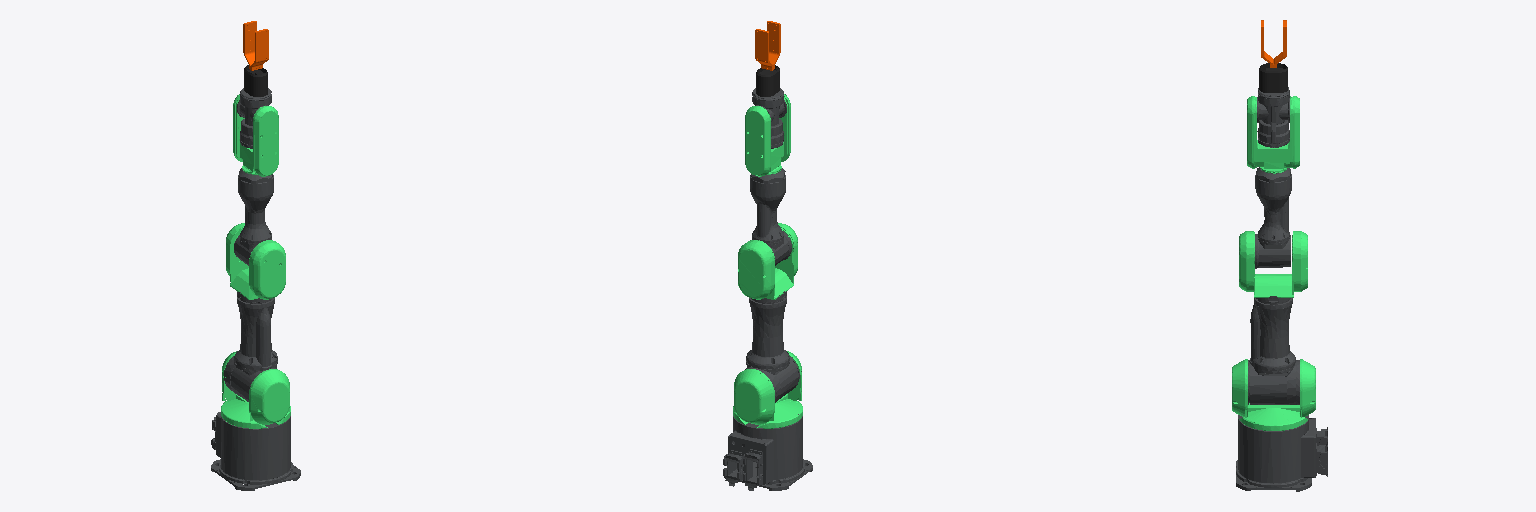
URDF robot description (pa10):
<?xml version="1.0" ?>
<!-- =================================================================================== -->
<!-- |    This document was autogenerated by xacro from pa10_csl.urdf.xacro            | -->
<!-- |    EDITING THIS FILE BY HAND IS NOT RECOMMENDED                                 | -->
<!-- =================================================================================== -->
<robot name="pa10" xmlns:xacro="http://www.ros.org/wiki/xacro">
  <!-- ros_control plugin -->
  <gazebo>
    <plugin filename="libgazebo_ros_control.so" name="gazebo_ros_control">
      <robotNamespace/>
      <robotSimType>gazebo_ros_control/DefaultRobotHWSim</robotSimType>
    </plugin>
  </gazebo>
  <!-- base_link -->
  <gazebo reference="base_link">
    <mu1>0.5</mu1>
    <mu2>0.5</mu2>
    <material>Gazebo/Grey</material>
  </gazebo>
  <!-- Link1 -->
  <gazebo reference="link_shoulder_1">
    <material>Gazebo/Blue</material>
  </gazebo>
  <!-- Link2 -->
  <gazebo reference="link_shoulder_2">
    <mu1>0.5</mu1>
    <mu2>0.5</mu2>
    <material>Gazebo/Grey</material>
  </gazebo>
  <!-- Link3 -->
  <gazebo reference="link_elbow_1">
    <mu1>0.5</mu1>
    <mu2>0.5</mu2>
    <material>Gazebo/Blue</material>
  </gazebo>
  <!-- Link4 -->
  <gazebo reference="link_elbow_2">
    <mu1>0.5</mu1>
    <mu2>0.5</mu2>
    <material>Gazebo/Grey</material>
  </gazebo>
  <!-- Link5 -->
  <gazebo reference="link_wrist_1">
    <mu1>0.5</mu1>
    <mu2>0.5</mu2>
    <material>Gazebo/Blue</material>
  </gazebo>
  <!-- Link6 -->
  <gazebo reference="link_wrist_2">
    <mu1>0.5</mu1>
    <mu2>0.5</mu2>
    <material>Gazebo/Grey</material>
  </gazebo>
  <gazebo reference="link_wrist_2">
    <mu1>0.5</mu1>
    <mu2>0.5</mu2>
    <material>Gazebo/Grey</material>
  </gazebo>
  <gazebo reference="link_gripper_base">
    <mu1>0.5</mu1>
    <mu2>0.5</mu2>
    <material>Gazebo/Grey</material>
  </gazebo>
  <gazebo reference="link_finger_1">
    <mu1>0.5</mu1>
    <mu2>0.5</mu2>
    <material>Gazebo/Orange</material>
  </gazebo>
  <gazebo reference="link_finger_2">
    <mu1>0.5</mu1>
    <mu2>0.5</mu2>
    <material>Gazebo/Orange</material>
  </gazebo>
  <material name="black">
    <color rgba="0.0 0.0 0.0 1.0"/>
  </material>
  <material name="blue">
    <color rgba="0.0 0.0 0.8 1.0"/>
  </material>
  <material name="green">
    <color rgba="0.0 0.8 0.0 1.0"/>
  </material>
  <material name="grey">
    <color rgba="0.2 0.2 0.2 1.0"/>
  </material>
  <material name="orange">
    <color rgba="1.0 0.423529411765 0.0392156862745 1.0"/>
  </material>
  <material name="brown">
    <color rgba="0.870588235294 0.811764705882 0.764705882353 1.0"/>
  </material>
  <material name="red">
    <color rgba="0.8 0.0 0.0 1.0"/>
  </material>
  <material name="white">
    <color rgba="1.0 1.0 1.0 1.0"/>
  </material>
  <!-- LINKS -->
  <link name="world"/>
  <link name="kinect2_rgb_optical_frame">
    <visual>
      <origin rpy="0 0 0" xyz="0 0 0"/>
      <geometry>
        <mesh filename="package://pa10_description/sensors_3D_models/kinect.dae" scale="1 1 1"/>
      </geometry>
      <material name="">
        <color rgba="0.0 0.0 0.0 1.0"/>
      </material>
    </visual>
    <collision>
      <origin rpy="0 0 0" xyz="0 0 0"/>
      <geometry>
        <mesh filename="package://pa10_description/sensors_3D_models/kinect.dae" scale="1 1 1"/>
      </geometry>
    </collision>
    <inertial>
      <origin rpy="0 0 0" xyz="0 0 0"/>
      <mass value="1"/>
      <inertia ixx="1" ixy="0.0" ixz="0.0" iyy="1" iyz="0.0" izz="1"/>
    </inertial>
  </link>
  <link name="base_link">
    <visual>
      <origin rpy="0 0 3.14" xyz="0 0 0"/>
      <geometry>
        <mesh filename="package://pa10_description/pa10_stl/S1.stl" scale="1 1 1"/>
      </geometry>
      <material name="">
        <color rgba="0.34 0.35 0.36 1.0"/>
      </material>
    </visual>
    <collision>
      <origin rpy="0 0 3.14" xyz="0 0 0"/>
      <geometry>
        <mesh filename="package://pa10_description/pa10_stl_collision/S1_collision.stl" scale="1 1 1"/>
      </geometry>
    </collision>
    <inertial>
      <origin rpy="0 0 3.14" xyz="0 0 0"/>
      <mass value="1"/>
      <inertia ixx="1" ixy="0.0" ixz="0.0" iyy="1" iyz="0.0" izz="1"/>
    </inertial>
  </link>
  <link name="link_shoulder_1">
    <visual>
      <origin rpy="0 0 0" xyz="0 0 0.117"/>
      <geometry>
        <mesh filename="package://pa10_description/pa10_stl/S2.stl" scale="1 1 1"/>
      </geometry>
      <material name="">
        <color rgba="0.33 0.96 0.53 1.5"/>
      </material>
    </visual>
    <collision>
      <origin rpy="0 0 0" xyz="0 0 0.117"/>
      <geometry>
        <mesh filename="package://pa10_description/pa10_stl_collision/S2_collision.stl" scale="1 1 1"/>
      </geometry>
    </collision>
    <inertial>
      <origin rpy="0 0 0" xyz="0 0 0.117"/>
      <mass value="1"/>
      <inertia ixx="1" ixy="0.0" ixz="0.0" iyy="1" iyz="0.0" izz="1"/>
    </inertial>
  </link>
  <link name="link_shoulder_2">
    <visual>
      <origin rpy="-1.57079 0 3.14159" xyz="0 0 0"/>
      <geometry>
        <mesh filename="package://pa10_description/pa10_stl/S3.stl" scale="1 1 1"/>
      </geometry>
      <material name="">
        <color rgba="0.34 0.35 0.36 1.0"/>
      </material>
    </visual>
    <collision>
      <origin rpy="-1.57079 0 3.14159" xyz="0 0 0"/>
      <geometry>
        <mesh filename="package://pa10_description/pa10_stl_collision/S3_collision.stl" scale="1 1 1"/>
      </geometry>
    </collision>
    <inertial>
      <origin rpy="-1.57079 0 3.14159" xyz="0 0 0"/>
      <mass value="1"/>
      <inertia ixx="1" ixy="0.0" ixz="0.0" iyy="1" iyz="0.0" izz="1"/>
    </inertial>
  </link>
  <link name="link_shoulder_to_elbow">
    <inertial>
      <origin rpy="0 0 0" xyz="0 0 1"/>
      <mass value="1"/>
      <inertia ixx="1" ixy="0.0" ixz="0.0" iyy="1" iyz="0.0" izz="1"/>
    </inertial>
  </link>
  <link name="link_elbow_1">
    <visual>
      <origin rpy="0 0 0" xyz="0 0.0 0.133"/>
      <geometry>
        <mesh filename="package://pa10_description/pa10_stl/E1.stl" scale="1 1 1"/>
      </geometry>
      <material name="">
        <color rgba="0.33 0.96 0.53 1.5"/>
      </material>
    </visual>
    <collision>
      <origin rpy="0 0 0" xyz="0 0.0 0.133"/>
      <geometry>
        <mesh filename="package://pa10_description/pa10_stl_collision/E1_collision.stl" scale="1 1 1"/>
      </geometry>
    </collision>
    <inertial>
      <origin rpy="0 0 0" xyz="0 0.0 0.133"/>
      <mass value="1"/>
      <inertia ixx="1" ixy="0.0" ixz="0.0" iyy="1" iyz="0.0" izz="1"/>
    </inertial>
  </link>
  <link name="link_elbow_2">
    <visual>
      <origin rpy="1.57079 0 0" xyz="0 0.003 0"/>
      <geometry>
        <mesh filename="package://pa10_description/pa10_stl/E2.stl" scale="1 1 1"/>
      </geometry>
      <material name="">
        <color rgba="0.34 0.35 0.36 1.0"/>
      </material>
    </visual>
    <collision>
      <origin rpy="-1.57079 0 0" xyz="0 0.003 0"/>
      <geometry>
        <mesh filename="package://pa10_description/pa10_stl_collision/E2_collision.stl" scale="1 1 1"/>
      </geometry>
    </collision>
    <inertial>
      <origin rpy="1.57079 0 0" xyz="0 0.003 0"/>
      <mass value="1"/>
      <inertia ixx="1" ixy="0.0" ixz="0.0" iyy="1" iyz="0.0" izz="1"/>
    </inertial>
  </link>
  <link name="link_wrist_1">
    <visual>
      <origin rpy="0 0 0" xyz="0 0 0.195"/>
      <geometry>
        <mesh filename="package://pa10_description/pa10_stl/W1.stl" scale="1 1 1"/>
      </geometry>
      <material name="">
        <color rgba="0.33 0.96 0.53 1.5"/>
      </material>
    </visual>
    <collision>
      <origin rpy="0 0 0" xyz="0 0 0.195"/>
      <geometry>
        <mesh filename="package://pa10_description/pa10_stl_collision/W1_collision.stl" scale="1 1 1"/>
      </geometry>
    </collision>
    <inertial>
      <origin rpy="0 0 0" xyz="0 0 0.195"/>
      <mass value="1"/>
      <inertia ixx="1" ixy="0.0" ixz="0.0" iyy="1" iyz="0.0" izz="1"/>
    </inertial>
  </link>
  <link name="link_wrist_2">
    <visual>
      <origin rpy="1.57079 0 0" xyz="0 0 0"/>
      <geometry>
        <mesh filename="package://pa10_description/pa10_stl/W2.stl" scale="1 1 1"/>
      </geometry>
      <material name="">
        <color rgba="0.34 0.35 0.36 1.0"/>
      </material>
    </visual>
    <collision>
      <origin rpy="1.57079 0 0" xyz="0 0 0"/>
      <geometry>
        <mesh filename="package://pa10_description/pa10_stl_collision/W2_collision.stl" scale="1 1 1"/>
      </geometry>
    </collision>
    <inertial>
      <origin rpy="1.57079 0 0" xyz="0 0 0"/>
      <mass value="1"/>
      <inertia ixx="1" ixy="0.0" ixz="0.0" iyy="1" iyz="0.0" izz="1"/>
    </inertial>
  </link>
  <link name="link_wrist_3"/>
  <link name="link_ee_tool">
    <inertial>
      <origin rpy="0 0 0" xyz="0 0 0"/>
      <mass value="0.05"/>
      <inertia ixx="1" ixy="0.0" ixz="0.0" iyy="1" iyz="0.0" izz="1"/>
    </inertial>
  </link>
  <!-- GRIPPER LINKS -->
  <link name="link_gripper_base">
    <visual>
      <origin rpy="0 0 0" xyz="0 0 -0.045"/>
      <geometry>
        <mesh filename="package://pa10_description/gripper_stl/pa10_gripper_base.stl" scale="1 1 1"/>
      </geometry>
      <material name="">
        <color rgba="0.2 0.2 0.2 1.0"/>
      </material>
    </visual>
    <collision>
      <origin rpy="0 0 0" xyz="0 0 -0.045"/>
      <geometry>
        <mesh filename="package://pa10_description/gripper_stl/pa10_gripper_base.stl" scale="1 1 1"/>
      </geometry>
    </collision>
    <inertial>
      <origin rpy="0 0 0" xyz="0 0 -0.045"/>
      <mass value="0.5"/>
      <inertia ixx="1" ixy="0.0" ixz="0.0" iyy="1" iyz="0.0" izz="1"/>
    </inertial>
  </link>
  <link name="link_finger_1">
    <visual>
      <origin rpy="-3.14159 -1.57079 0" xyz="-0.0225 0.075 -0.01"/>
      <geometry>
        <mesh filename="package://pa10_description/gripper_stl/finger.STL" scale="0.001 0.001 0.001"/>
      </geometry>
      <material name="">
        <color rgba="1.0 0.423529411765 0.0392156862745 1.0"/>
      </material>
    </visual>
    <collision>
      <origin rpy="-3.14159 -1.57079 0" xyz="-0.0225 0.075 -0.01"/>
      <geometry>
        <mesh filename="package://pa10_description/gripper_stl/finger.STL" scale="0.001 0.001 0.001"/>
      </geometry>
    </collision>
    <inertial>
      <origin rpy="0 0 0" xyz="0 0 0"/>
      <mass value="0.1"/>
      <inertia ixx="1" ixy="0.0" ixz="0.0" iyy="1" iyz="0.0" izz="1"/>
    </inertial>
  </link>
  <link name="link_finger_2">
    <visual>
      <origin rpy="0 1.57079 0" xyz="-0.0225 -0.075 0.07"/>
      <geometry>
        <mesh filename="package://pa10_description/gripper_stl/finger_left.STL" scale="0.001 0.001 0.001"/>
      </geometry>
      <material name="">
        <color rgba="1.0 0.423529411765 0.0392156862745 1.0"/>
      </material>
    </visual>
    <collision>
      <origin rpy="0 1.57079 0" xyz="-0.0225 -0.075 0.07"/>
      <geometry>
        <mesh filename="package://pa10_description/gripper_stl/finger_left.STL" scale="0.001 0.001 0.001"/>
      </geometry>
    </collision>
    <inertial>
      <origin rpy="0 0 0" xyz="0 0 0"/>
      <mass value="0.1"/>
      <inertia ixx="1" ixy="0.0" ixz="0.0" iyy="1" iyz="0.0" izz="1"/>
    </inertial>
  </link>
  <!-- *********** -->
  <!--   JOINTS    -->
  <!--************ -->
  <joint name="fixed" type="fixed">
    <parent link="world"/>
    <child link="base_link"/>
  </joint>
  <joint name="kinect" type="fixed">
    <origin rpy="-0.52 0 0" xyz="0 -0.90 0"/>
    <parent link="world"/>
    <child link="kinect2_rgb_optical_frame"/>
  </joint>
  <joint name="S1" type="revolute">
    <origin rpy="0 0 0" xyz="0 0 0.2"/>
    <parent link="base_link"/>
    <child link="link_shoulder_1"/>
    <axis xyz="0 0 1"/>
    <limit effort="39.0" lower="-2.96705972839" upper="2.96705972839" velocity="0.85"/>
    <safety_controller k_position="20" k_velocity="20" soft_lower_limit="-2.94705972839" soft_upper_limit="2.94705972839"/>
  </joint>
  <joint name="S2" type="revolute">
    <origin rpy="-1.57079 0 0" xyz="0 0 0.117"/>
    <parent link="link_shoulder_1"/>
    <child link="link_shoulder_2"/>
    <axis xyz="0 0 1"/>
    <limit effort="39.0" lower="-1.57079632679" upper="1.57079632679" velocity="0.85"/>
    <safety_controller k_position="20" k_velocity="20" soft_lower_limit="-1.55079632679" soft_upper_limit="1.55079632679"/>
  </joint>
  <joint name="soldier_to_elbow_joint" type="fixed">
    <origin rpy="1.57079 0 0" xyz="0 0 0"/>
    <parent link="link_shoulder_2"/>
    <child link="link_shoulder_to_elbow"/>
  </joint>
  <joint name="E1" type="revolute">
    <origin rpy="0 0 0" xyz="0 0 0.317"/>
    <parent link="link_shoulder_to_elbow"/>
    <child link="link_elbow_1"/>
    <axis xyz="0 0 1"/>
    <limit effort="39.0" lower="-2.96705972839" upper="2.96705972839" velocity="1.85"/>
    <safety_controller k_position="20" k_velocity="20" soft_lower_limit="-2.94705972839" soft_upper_limit="2.94705972839"/>
  </joint>
  <joint name="E2" type="revolute">
    <origin rpy="-1.57079  0 0" xyz="0 0 0.133"/>
    <parent link="link_elbow_1"/>
    <child link="link_elbow_2"/>
    <axis xyz="0 0 1"/>
    <limit effort="39.0" lower="-2.26892802759" upper="2.26892802759" velocity="1.85"/>
    <safety_controller k_position="20" k_velocity="20" soft_lower_limit="-2.24892802759" soft_upper_limit="2.24892802759"/>
  </joint>
  <joint name="W1" type="revolute">
    <origin rpy="1.57079 0 0" xyz="0 -0.285 0 "/>
    <parent link="link_elbow_2"/>
    <child link="link_wrist_1"/>
    <axis xyz="0 0 1"/>
    <limit effort="39.0" lower="-4.36332312999" upper="4.36332312999" velocity="1.85"/>
    <safety_controller k_position="20" k_velocity="20" soft_lower_limit="-4.34332312999" soft_upper_limit="4.34332312999"/>
  </joint>
  <joint name="W2" type="revolute">
    <origin rpy="-1.57079 0 0" xyz="0 0 0.195"/>
    <parent link="link_wrist_1"/>
    <child link="link_wrist_2"/>
    <axis xyz="0 0 1"/>
    <limit effort="39.0" lower="-2.79252680319" upper="2.79252680319" velocity="5.65486677646"/>
    <safety_controller k_position="20" k_velocity="20" soft_lower_limit="-2.77252680319" soft_upper_limit="2.77252680319"/>
  </joint>
  <joint name="W3" type="revolute">
    <origin rpy="1.57079 0 0" xyz="0 -0.07 0"/>
    <parent link="link_wrist_2"/>
    <child link="link_wrist_3"/>
    <axis xyz="0 0 1"/>
    <limit effort="39.0" lower="-4.36332312999" upper="4.36332312999" velocity="5.65486677646"/>
    <safety_controller k_position="20" k_velocity="20" soft_lower_limit="-4.34332312999" soft_upper_limit="4.34332312999"/>
  </joint>
  <!-- GRIPPER JOINTS -->
  <joint name="gripper_base" type="fixed">
    <origin rpy="0 0 0" xyz="0 0 0.045"/>
    <parent link="link_wrist_3"/>
    <child link="link_gripper_base"/>
  </joint>
  <joint name="finger_joint_1" type="prismatic">
    <origin rpy="-1.57079 0 0" xyz="0 -0.03 0.11"/>
    <parent link="link_gripper_base"/>
    <child link="link_finger_1"/>
    <axis xyz="0 0 1"/>
    <limit effort="39.0" lower="-0.039" upper="0" velocity="1.0"/>
    <safety_controller k_position="20" k_velocity="20" soft_lower_limit="-0.035" soft_upper_limit="-0.002"/>
  </joint>
  <joint name="finger_joint_2" type="prismatic">
    <origin rpy="1.57079 0 0" xyz="0 0.03 0.11"/>
    <parent link="link_gripper_base"/>
    <child link="link_finger_2"/>
    <axis xyz="0 0 1"/>
    <limit effort="39.0" lower="-0.039" upper="0" velocity="1.0"/>
    <safety_controller k_position="20" k_velocity="20" soft_lower_limit="-0.035" soft_upper_limit="-0.002"/>
  </joint>
  <joint name="ee_tool_frame" type="fixed">
    <origin rpy="0 0 0" xyz="0 0 0.23"/>
    <parent link="link_wrist_3"/>
    <child link="link_ee_tool"/>
  </joint>
  <!-- ******************* -->
  <!--    TRANSMITIONS     -->
  <!-- ******************* -->
  <transmission name="S1_trans">
    <type>transmission_interface/SimpleTransmission</type>
    <actuator name="S1_motor">
      <mechanicalReduction>1.0</mechanicalReduction>
    </actuator>
    <joint name="S1">
      <hardwareInterface>hardware_interface/PositionJointInterface</hardwareInterface>
      <hardwareInterface>hardware_interface/EffortJointInterface</hardwareInterface>
    </joint>
  </transmission>
  <transmission name="S2_trans">
    <type>transmission_interface/SimpleTransmission</type>
    <actuator name="S2_motor">
      <mechanicalReduction>1.0</mechanicalReduction>
    </actuator>
    <joint name="S2">
      <hardwareInterface>hardware_interface/PositionJointInterface</hardwareInterface>
      <hardwareInterface>hardware_interface/EffortJointInterface</hardwareInterface>
    </joint>
  </transmission>
  <transmission name="E1_trans">
    <type>transmission_interface/SimpleTransmission</type>
    <actuator name="E1_motor">
      <mechanicalReduction>1.0</mechanicalReduction>
    </actuator>
    <joint name="E1">
      <hardwareInterface>hardware_interface/PositionJointInterface</hardwareInterface>
      <hardwareInterface>hardware_interface/EffortJointInterface</hardwareInterface>
    </joint>
  </transmission>
  <transmission name="E2_trans">
    <type>transmission_interface/SimpleTransmission</type>
    <actuator name="E2_motor">
      <mechanicalReduction>1.0</mechanicalReduction>
    </actuator>
    <joint name="E2">
      <hardwareInterface>hardware_interface/PositionJointInterface</hardwareInterface>
      <hardwareInterface>hardware_interface/EffortJointInterface</hardwareInterface>
    </joint>
  </transmission>
  <transmission name="W1_trans">
    <type>transmission_interface/SimpleTransmission</type>
    <actuator name="W1_motor">
      <mechanicalReduction>1.0</mechanicalReduction>
    </actuator>
    <joint name="W1">
      <hardwareInterface>hardware_interface/PositionJointInterface</hardwareInterface>
      <hardwareInterface>hardware_interface/EffortJointInterface</hardwareInterface>
    </joint>
  </transmission>
  <transmission name="W2_trans">
    <type>transmission_interface/SimpleTransmission</type>
    <actuator name="W2_motor">
      <mechanicalReduction>1.0</mechanicalReduction>
    </actuator>
    <joint name="W2">
      <hardwareInterface>hardware_interface/PositionJointInterface</hardwareInterface>
      <hardwareInterface>hardware_interface/EffortJointInterface</hardwareInterface>
    </joint>
  </transmission>
  <transmission name="W3_trans">
    <type>transmission_interface/SimpleTransmission</type>
    <actuator name="W3_motor">
      <mechanicalReduction>1.0</mechanicalReduction>
    </actuator>
    <joint name="W3">
      <hardwareInterface>hardware_interface/PositionJointInterface</hardwareInterface>
      <hardwareInterface>hardware_interface/EffortJointInterface</hardwareInterface>
    </joint>
  </transmission>
  <transmission name="finger_joint_1_trans">
    <type>transmission_interface/SimpleTransmission</type>
    <actuator name="finger_joint_1_motor">
      <mechanicalReduction>1.0</mechanicalReduction>
    </actuator>
    <joint name="finger_joint_1">
      <hardwareInterface>hardware_interface/PositionJointInterface</hardwareInterface>
      <hardwareInterface>hardware_interface/EffortJointInterface</hardwareInterface>
    </joint>
  </transmission>
  <transmission name="finger_joint_2_trans">
    <type>transmission_interface/SimpleTransmission</type>
    <actuator name="finger_joint_2_motor">
      <mechanicalReduction>1.0</mechanicalReduction>
    </actuator>
    <joint name="finger_joint_2">
      <hardwareInterface>hardware_interface/PositionJointInterface</hardwareInterface>
      <hardwareInterface>hardware_interface/EffortJointInterface</hardwareInterface>
    </joint>
  </transmission>
</robot>

--- Facts derived from the render (not from the file) ---
3 views of the same robot in one strip: view 1: azimuth 30°, elevation 25°; view 2: azimuth 150°, elevation 25°; view 3: azimuth 270°, elevation 25° (orthographic).
Model pa10 with 15 links and 14 joints (7 revolute, 2 prismatic, 5 fixed), rooted at world, posed all joints at 0.
Visible links, largest first — view 1: base_link, link_shoulder_2, link_shoulder_1, link_elbow_1, link_wrist_1, link_elbow_2, link_wrist_2, link_gripper_base, link_finger_1; view 2: base_link, link_shoulder_2, link_shoulder_1, link_elbow_1, link_wrist_1, link_elbow_2, link_wrist_2, link_gripper_base, link_finger_2; view 3: base_link, link_shoulder_2, link_elbow_2, link_shoulder_1, link_elbow_1, link_wrist_1, link_wrist_2, link_gripper_base.
Link boxes in pixels (x1,y1,x2,y2): base_link: (211, 412, 300, 490); link_shoulder_2: (224, 292, 277, 401); link_shoulder_1: (221, 351, 290, 428); link_elbow_1: (226, 223, 285, 299); link_wrist_1: (233, 94, 278, 176); link_elbow_2: (234, 168, 273, 265); link_wrist_2: (237, 88, 271, 148); link_gripper_base: (244, 65, 267, 96); link_finger_1: (250, 29, 268, 70); base_link: (723, 414, 812, 490); link_shoulder_2: (745, 291, 799, 402); link_shoulder_1: (733, 351, 802, 428); link_elbow_1: (738, 223, 797, 299); link_wrist_1: (745, 94, 790, 176); link_elbow_2: (750, 168, 793, 265); link_wrist_2: (752, 88, 786, 148); link_gripper_base: (756, 65, 779, 96); link_finger_2: (755, 29, 773, 70); base_link: (1236, 415, 1327, 491); link_shoulder_2: (1248, 296, 1299, 404); link_elbow_2: (1255, 167, 1291, 268); link_shoulder_1: (1232, 359, 1315, 430); link_elbow_1: (1239, 231, 1307, 297); link_wrist_1: (1247, 96, 1299, 173); link_wrist_2: (1257, 87, 1289, 147); link_gripper_base: (1259, 63, 1287, 92).
Bounding box of the posed robot: 0.2342 × 0.2994 × 1.54 m (x, y, z).
Meshes: 11 distinct files referenced, 10 mesh visuals loaded (10 binary STL); not drawn: 1 (reference not matched to a file when rendering).
